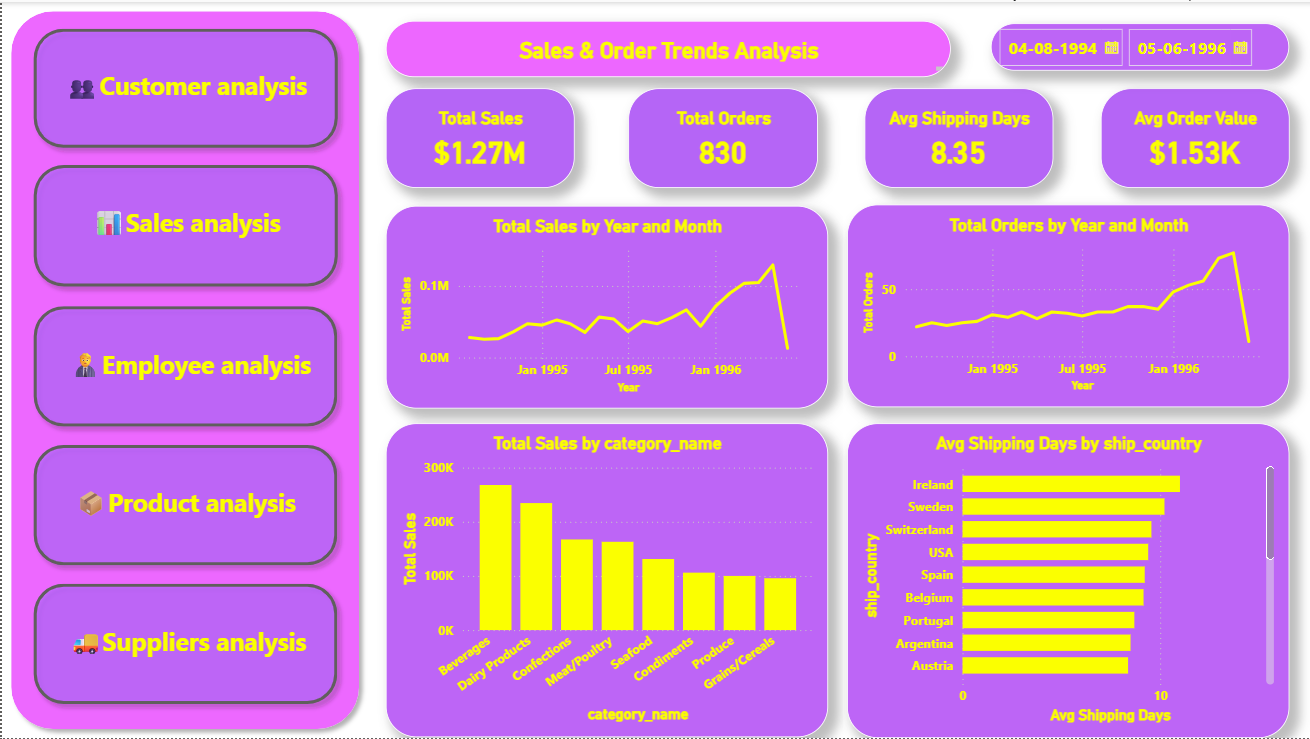

What the dashboard file says about the page in this screenshot:
{"tool":"powerbi","page":{"name":"Sales analysis","canvas":[1280,720],"ordinal":2},"visuals":[{"type":"shape","box":[0,0,358.3,720.2],"z":0},{"type":"actionButton","box":[22,151,315.5,137],"z":1000},{"type":"actionButton","box":[22,288.6,315,135.7],"z":2000},{"type":"actionButton","box":[22,560.1,315,135.7],"z":3000},{"type":"actionButton","box":[22,424.3,315,135.7],"z":4000},{"type":"actionButton","box":[22,17.1,315.5,134.5],"z":5000},{"type":"textbox","box":[51.4,45.2,258,78.3],"z":6000},{"type":"textbox","box":[51.4,179.8,258,78.3],"z":7000},{"type":"textbox","box":[51.4,317.9,258,78.3],"z":8000},{"type":"textbox","box":[50.1,453.7,258,78.3],"z":9000},{"type":"textbox","box":[52.6,589.4,258,78.3],"z":10000},{"type":"textbox","title":"Sales & Order Trends Analysis","box":[375.4,18.3,552.7,55],"z":11000},{"type":"card","title":"Total Sales","fields":{"Values":["sales_Measures.Total Sales"]},"box":[375.4,84.4,184.6,97.8],"z":12000},{"type":"card","title":"Total Orders","fields":{"Values":["sales_Measures.Total Orders"]},"box":[612.6,84.4,185.9,97.8],"z":13000},{"type":"card","title":"Avg Shipping Days","fields":{"Values":["sales_Measures.Avg Shipping Days"]},"box":[843.8,84.4,184.6,97.8],"z":14000},{"type":"card","title":"Avg Order Value","fields":{"Values":["sales_Measures.Avg Order Value"]},"box":[1074.9,84.4,184.6,97.8],"z":15000},{"type":"lineChart","fields":{"Category":["orders.order_date.Variation.Date Hierarchy.Year","orders.order_date.Variation.Date Hierarchy.Month"],"Y":["sales_Measures.Total Sales"]},"box":[375.4,199.3,432.9,198.1],"z":16000},{"type":"lineChart","fields":{"Category":["orders.order_date.Variation.Date Hierarchy.Year","orders.order_date.Variation.Date Hierarchy.Month"],"Y":["sales_Measures.Total Orders"]},"box":[826.6,198.1,432.9,198.1],"z":17000},{"type":"columnChart","fields":{"Category":["categories.category_name"],"Y":["sales_Measures.Total Sales"]},"box":[375.4,412.1,432.9,306.9],"z":18000},{"type":"barChart","fields":{"Category":["orders.ship_country"],"Y":["sales_Measures.Avg Shipping Days"]},"box":[826.6,412.1,432.9,308.2],"z":19000},{"type":"slicer","title":"DATE","fields":{"Values":["orders.order_date"]},"box":[967.3,20.8,292.3,46.5],"z":20000}]}

Visuals, with their boxes in screenshot pixels (x1, y1, x2, y2), scaled from the page's 1280x720 canvas onto the 1310x739 screenshot:
shape: crop(0, 0, 367, 738)
actionButton: crop(23, 155, 345, 296)
actionButton: crop(23, 296, 345, 435)
actionButton: crop(23, 575, 345, 714)
actionButton: crop(23, 435, 345, 575)
actionButton: crop(23, 18, 345, 156)
textbox: crop(53, 46, 317, 127)
textbox: crop(53, 185, 317, 265)
textbox: crop(53, 326, 317, 407)
textbox: crop(51, 466, 315, 546)
textbox: crop(54, 605, 318, 685)
"Sales & Order Trends Analysis" textbox: crop(384, 19, 950, 75)
"Total Sales" card: crop(384, 87, 573, 187)
"Total Orders" card: crop(627, 87, 817, 187)
"Avg Shipping Days" card: crop(864, 87, 1053, 187)
"Avg Order Value" card: crop(1100, 87, 1289, 187)
lineChart - orders.order_date.Variation.Date Hierarchy.Year x orders.order_date.Variation.Date Hierarchy.Month: crop(384, 205, 827, 408)
lineChart - orders.order_date.Variation.Date Hierarchy.Year x orders.order_date.Variation.Date Hierarchy.Month: crop(846, 203, 1289, 407)
columnChart - categories.category_name x sales_Measures.Total Sales: crop(384, 423, 827, 738)
barChart - orders.ship_country x sales_Measures.Avg Shipping Days: crop(846, 423, 1289, 738)
"DATE" slicer: crop(990, 21, 1289, 69)
